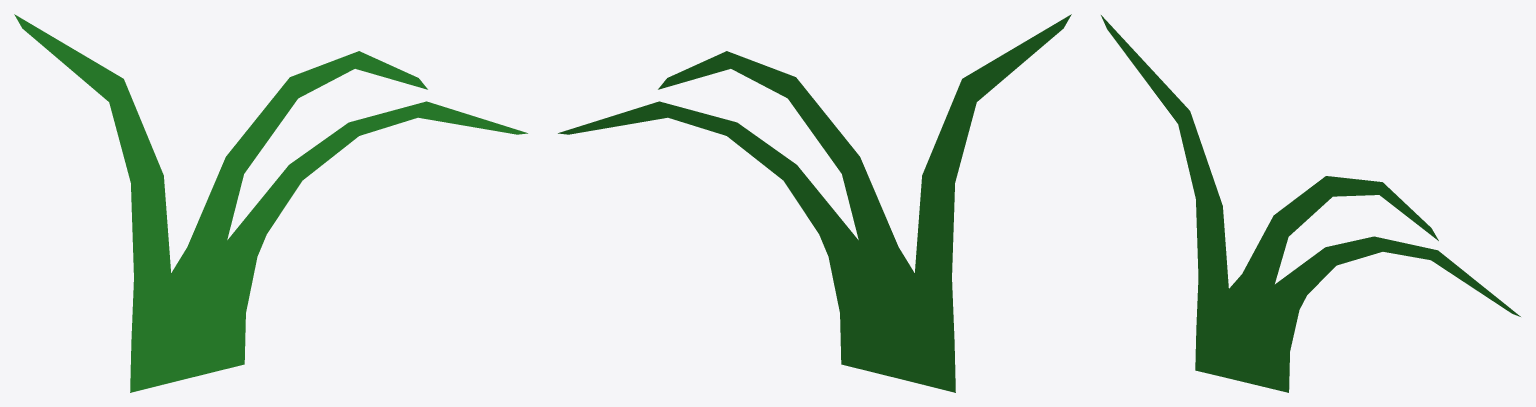
Rendered from Grass_2.fbx.
3 renders of one model, left to right at view 1: azimuth 30°, elevation 25°; view 2: azimuth 150°, elevation 25°; view 3: azimuth 330°, elevation 25°, orthographic. The views are drawn at different scales.
Visible parts, largest first — view 1: Grass_2; view 2: Grass_2; view 3: Grass_2.
Part boxes in pixels (box(x1,y1,x2,y2)): Grass_2: box(14, 14, 527, 392); Grass_2: box(558, 14, 1071, 392); Grass_2: box(1101, 15, 1520, 392).
Size of the model in its own units: 0.7559 by 0.5715 by 6.87e-08.
